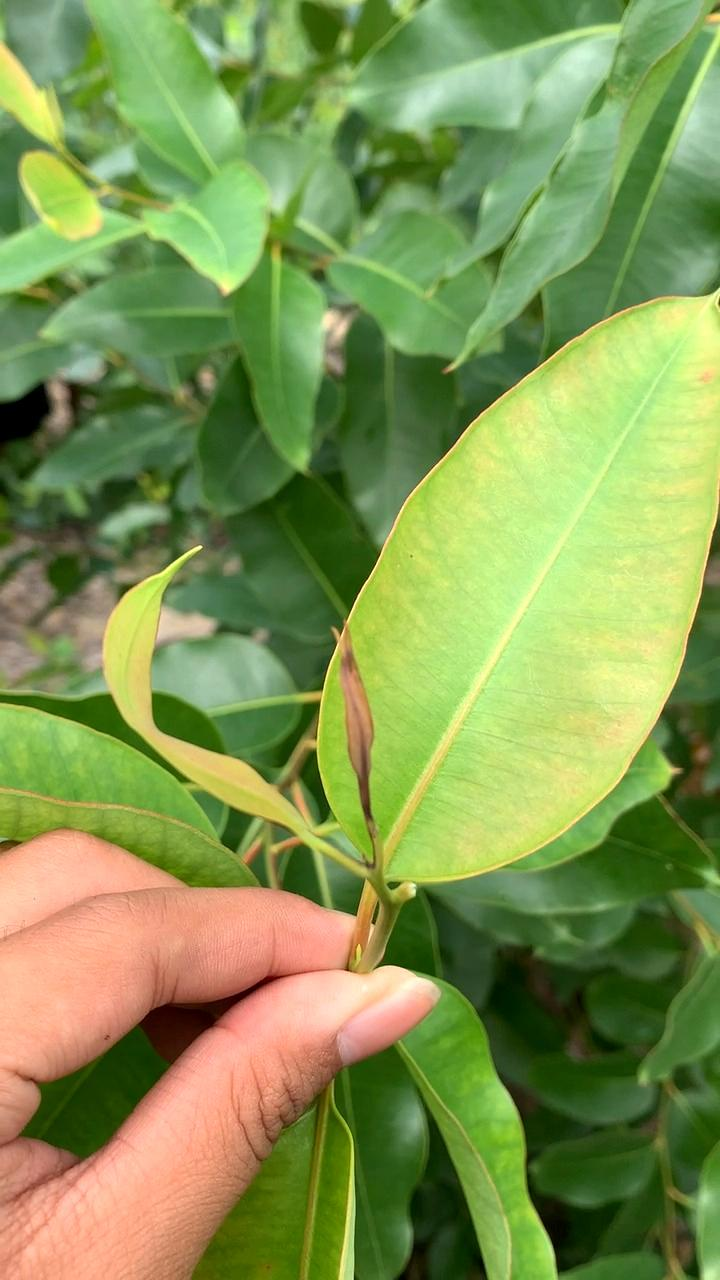Helopeltis-Withered Sprout: (323, 600, 400, 872)
